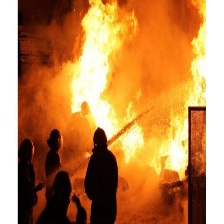fire: (72, 2, 153, 159), (164, 4, 206, 180)
smoke: (24, 7, 73, 171)
